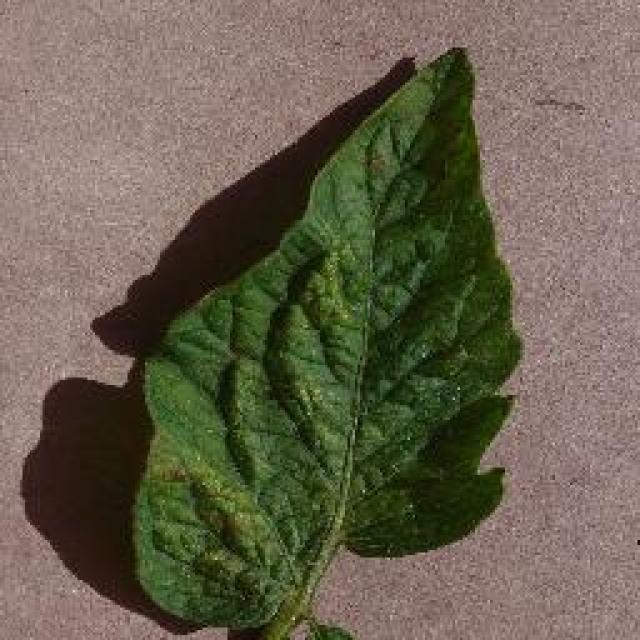Tomato___Spider_mites Two-spotted_spider_mite: (132, 48, 518, 638)
